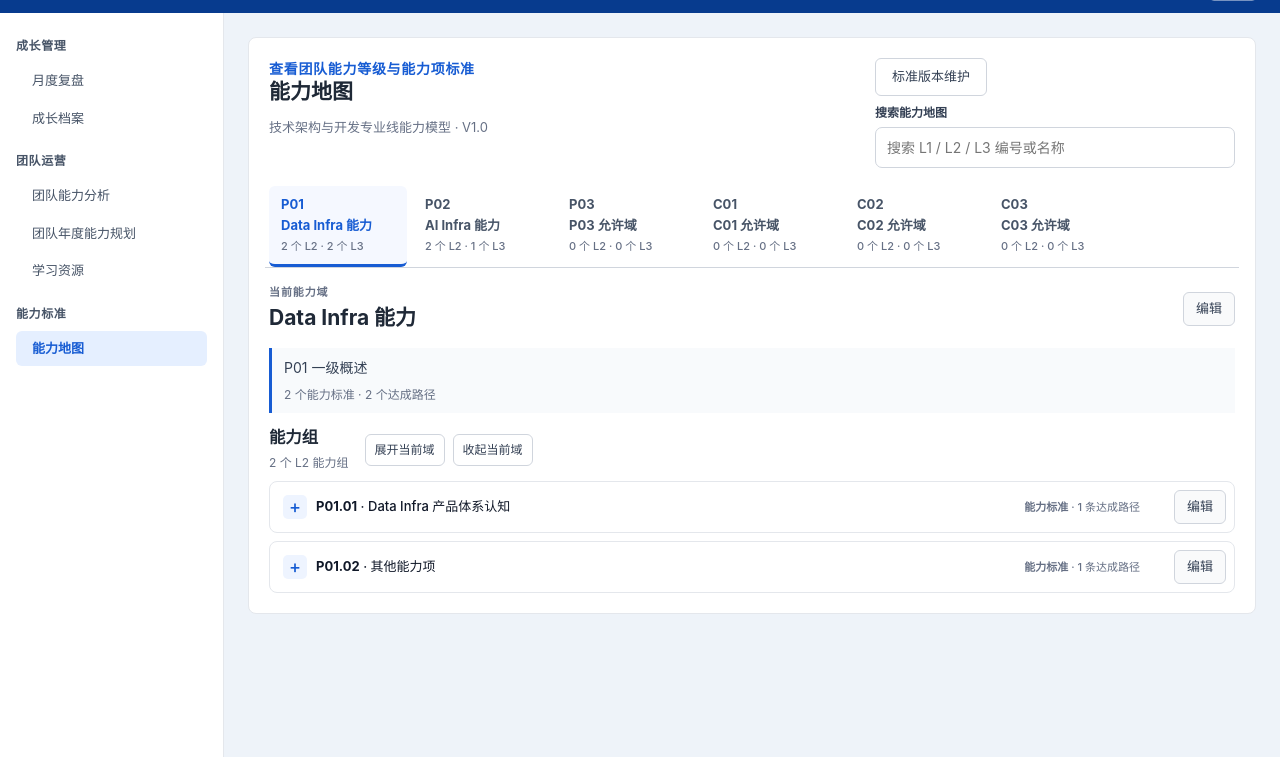
it: catalog routes › keeps the Leader standard-version entry local to the capability map
Expected: the tab "P01 Data Infra 能力 2 个 L2 · 2 个 L3" is shown, 269,186 -> 407,267
Click the button "标准版本维护" at point(931, 77), box 875,58 -> 987,96
(page scrolled)
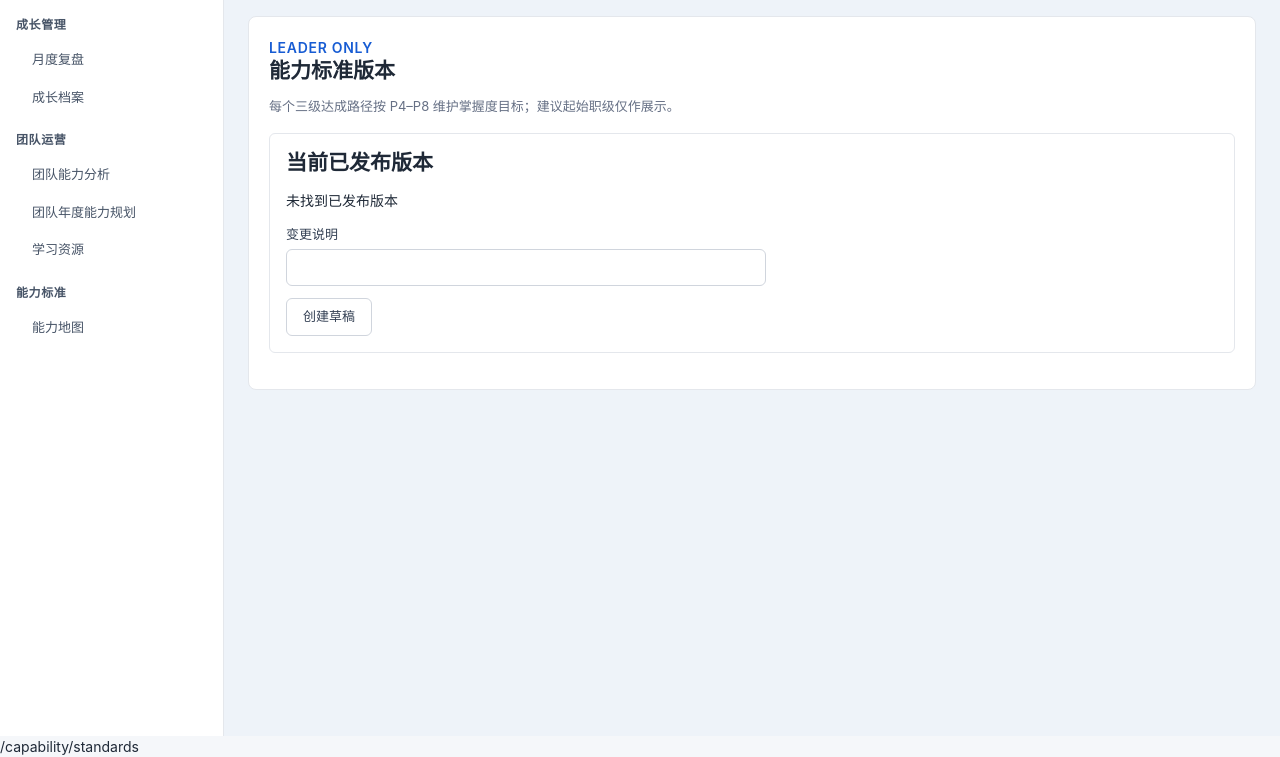
Now the text with test id "location" reads "/capability/standards", box 0,738 -> 139,755
